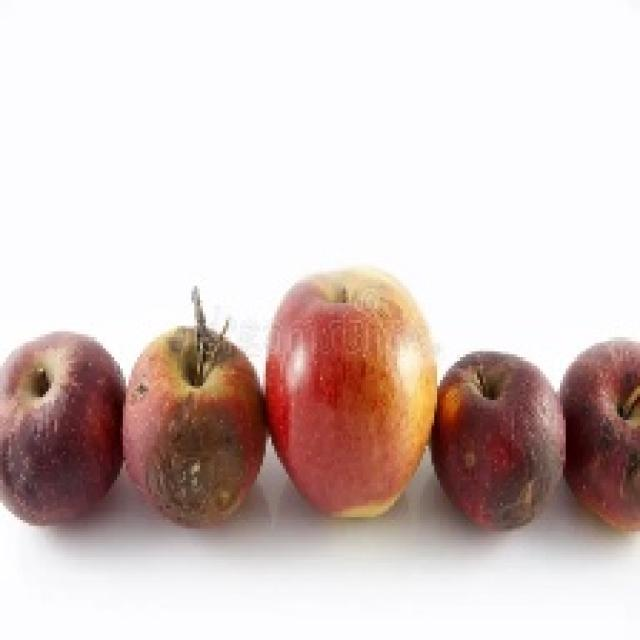100-_ripeness: (266, 280, 435, 520)
rotten_apple: (127, 329, 259, 525), (2, 332, 121, 514), (446, 354, 561, 524), (571, 340, 640, 525)
